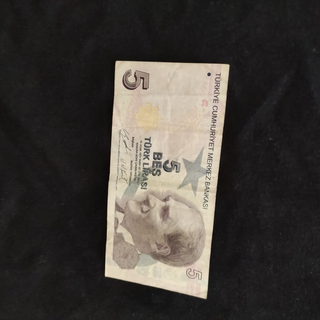5TLFront: (104, 60, 230, 301)
